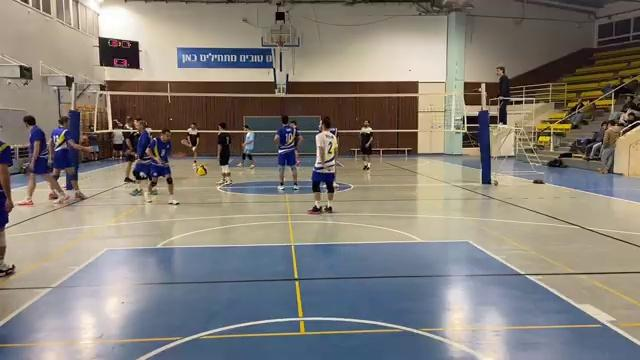ball: (191, 165, 211, 177)
